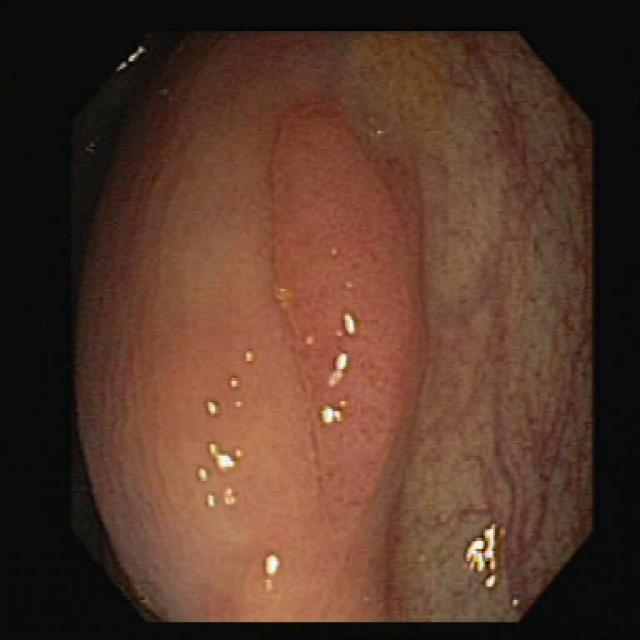tumor: (268, 104, 418, 618)
